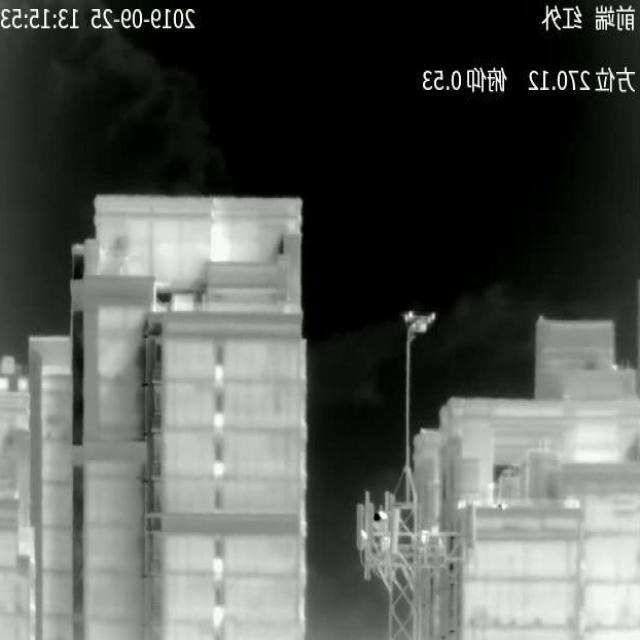drone: (404, 311, 436, 341)
